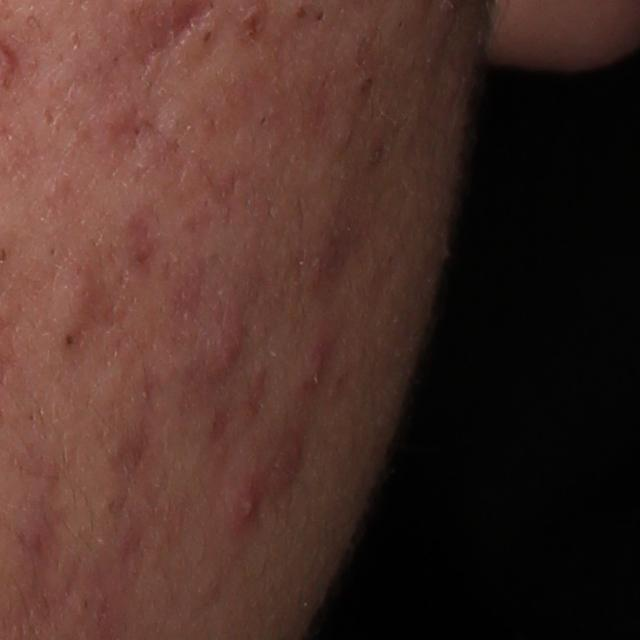comedo: (200, 27, 216, 51), (58, 332, 75, 348), (292, 5, 306, 22), (313, 9, 327, 24)
papule: (209, 306, 247, 377), (231, 479, 265, 522)
